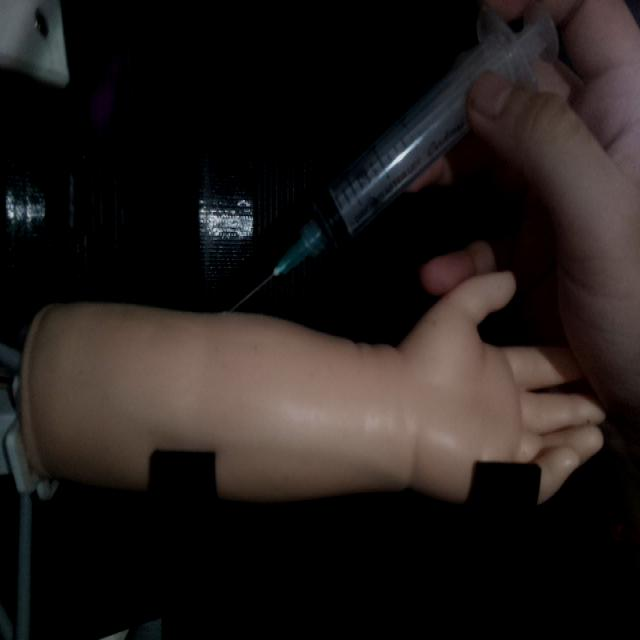Above 30 degrees: (223, 3, 560, 313)
